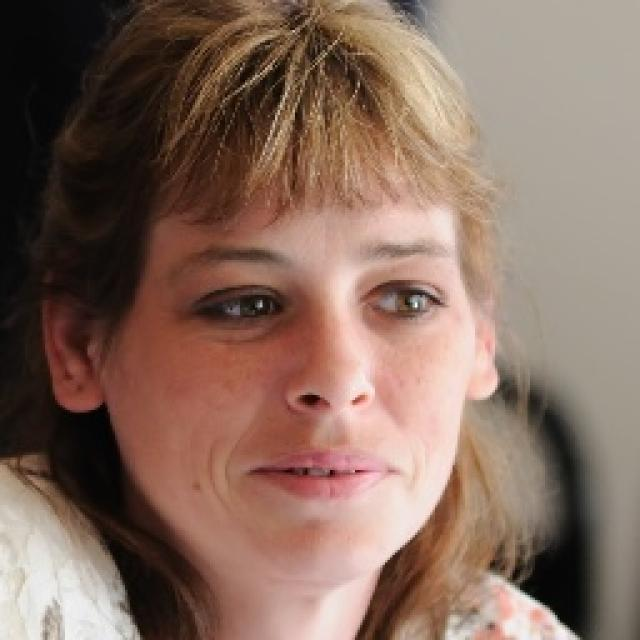earlobe: (61, 368, 103, 415), (464, 368, 500, 403)
eye: (211, 284, 281, 326), (374, 285, 439, 325)
nose: (283, 396, 375, 441)
wholeear: (37, 260, 104, 416), (464, 253, 500, 402)
